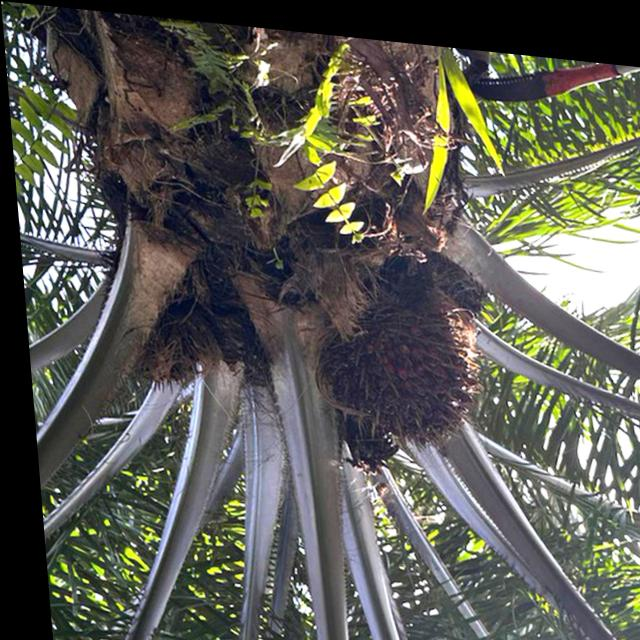ripe: (321, 281, 498, 465)
